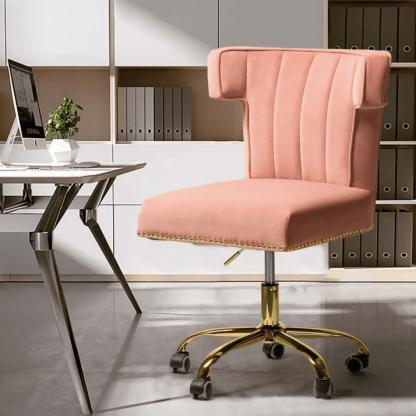chair: (134, 43, 395, 399)
table: (0, 150, 149, 416)
